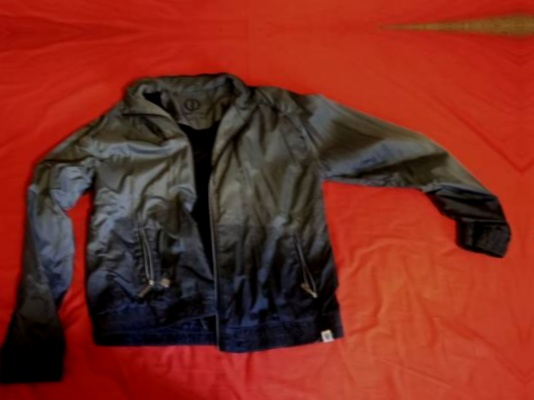Blazer: (0, 78, 506, 390)
